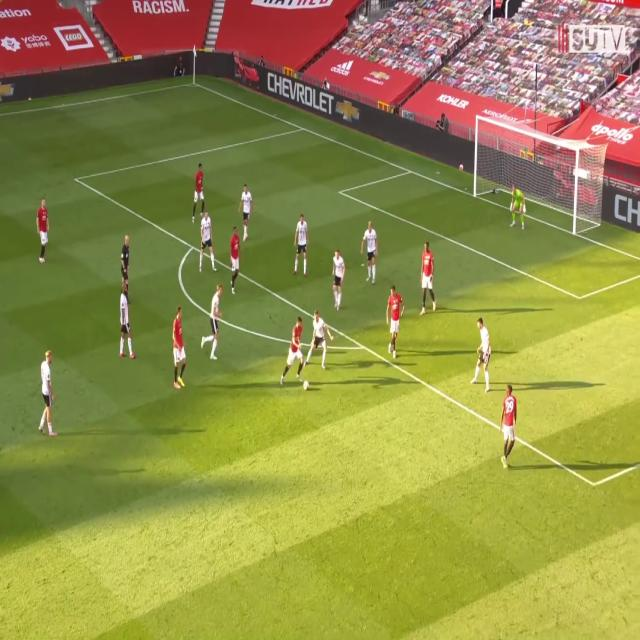ball: (303, 379, 311, 392)
team1: (171, 304, 192, 392), (500, 386, 520, 471), (420, 240, 440, 318), (387, 282, 407, 360), (283, 318, 305, 388), (37, 198, 54, 266), (227, 227, 243, 295), (192, 162, 206, 222)
team2: (37, 347, 60, 440), (204, 281, 228, 364), (473, 316, 494, 392), (308, 312, 334, 368), (118, 283, 136, 361), (361, 220, 382, 286), (199, 209, 219, 276), (330, 247, 349, 312), (294, 211, 312, 278), (237, 184, 255, 242)
